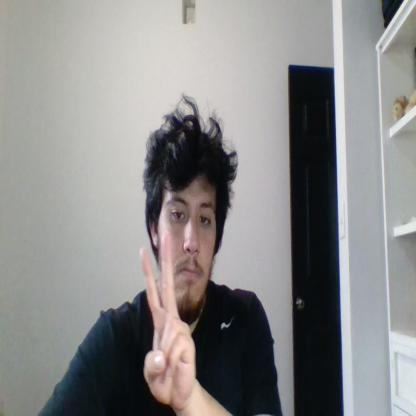V: (139, 232, 195, 404)
